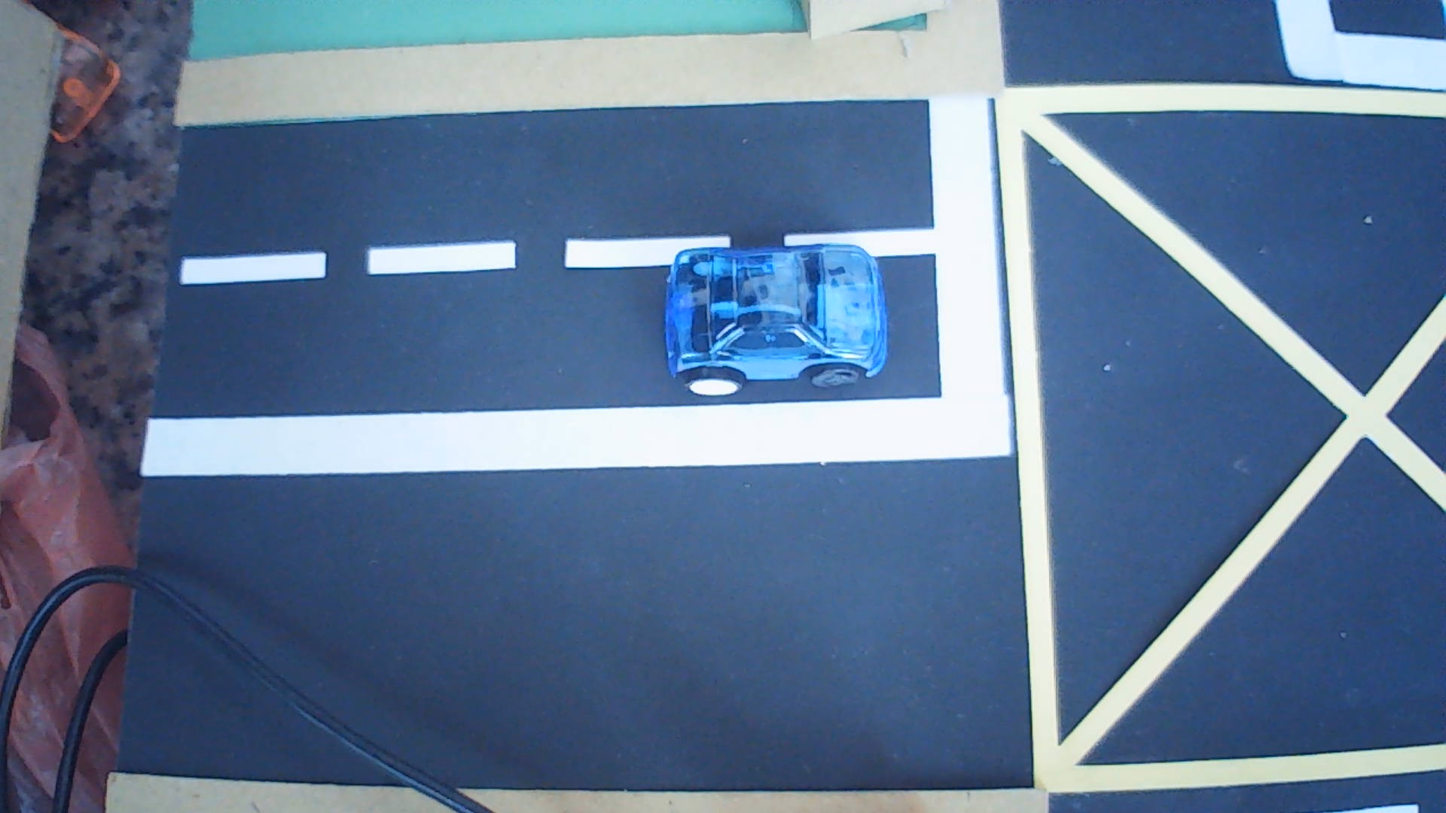Mobil biru: (665, 244, 887, 394)
